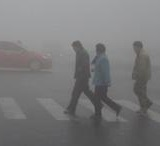person: (63, 39, 104, 115), (88, 42, 123, 119), (131, 40, 153, 114)
